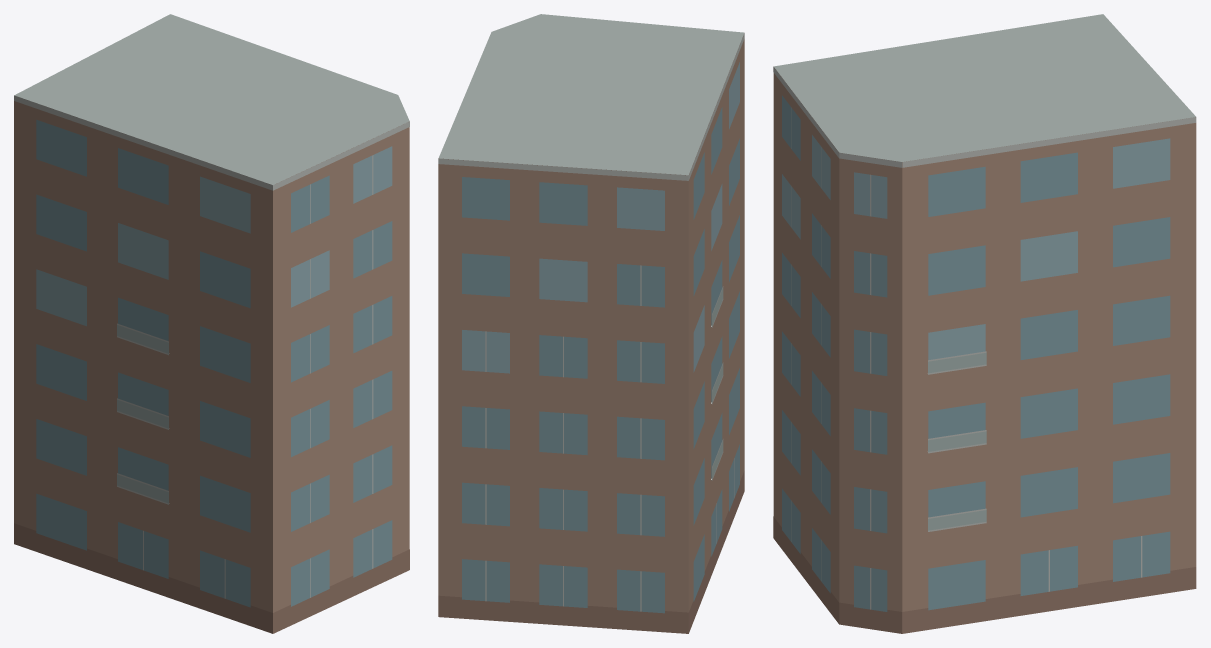
The model's file is survey-upis-32994016.glb.
The picture shows the model from 3 angles, left to right: view 1: azimuth 30°, elevation 25°; view 2: azimuth 150°, elevation 25°; view 3: azimuth 270°, elevation 25°; orthographic projection. The views are drawn at different scales.
Parts seen in each view (by area): view 1: survey-upis-32994016.tmp; view 2: survey-upis-32994016.tmp; view 3: survey-upis-32994016.tmp.
Part boxes in pixels (left/top/right/bottom): survey-upis-32994016.tmp: left=14, top=14, right=409, bottom=633; survey-upis-32994016.tmp: left=438, top=14, right=744, bottom=633; survey-upis-32994016.tmp: left=773, top=14, right=1196, bottom=633.
Bounding box in the file's own units: 13.3 × 19.75 × 16.05.
